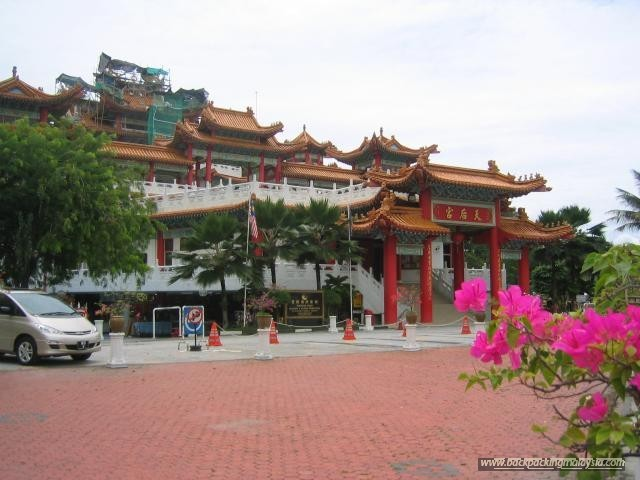Buddhist Temple: (15, 63, 548, 335)
